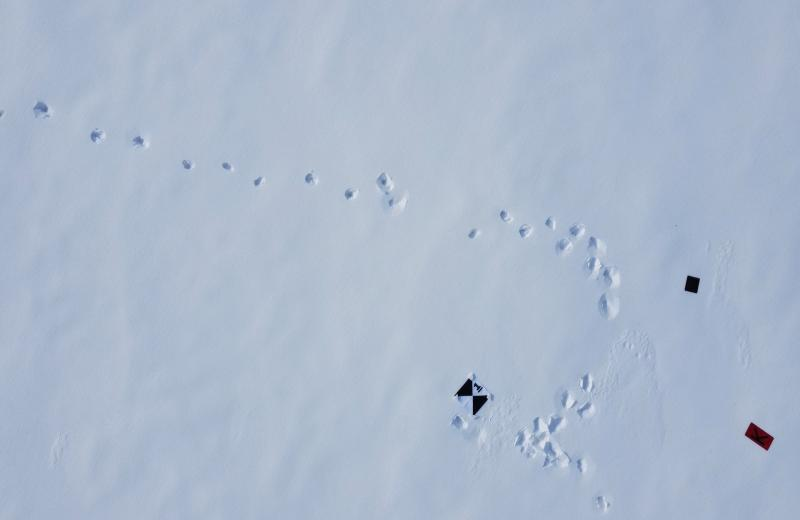Rectangle: (743, 418, 777, 454)
Square: (680, 270, 703, 298)
